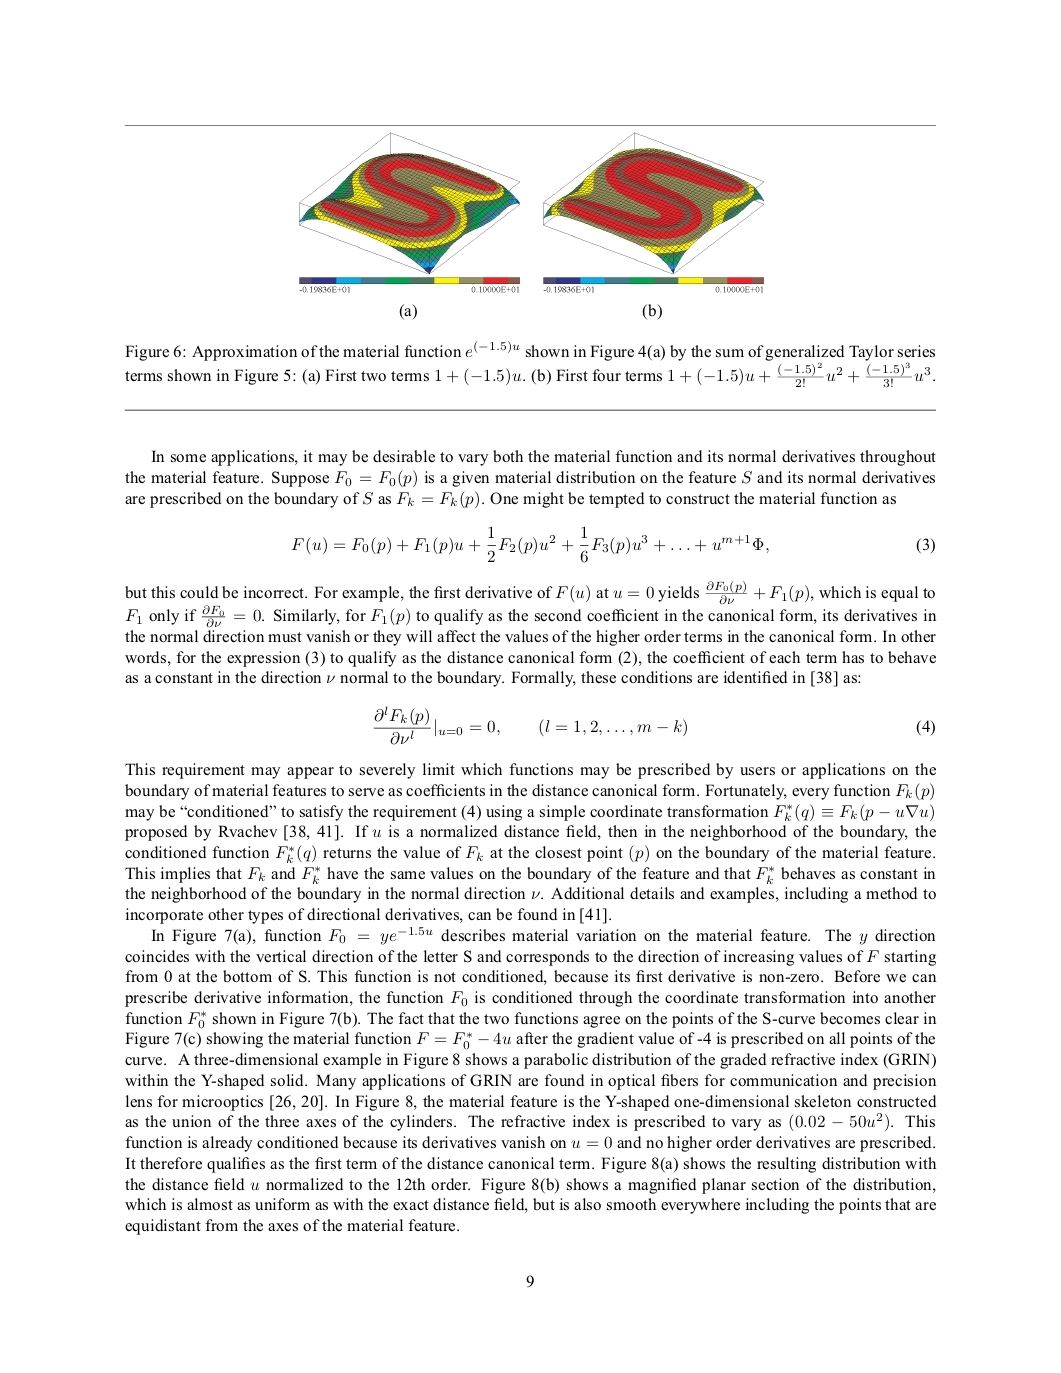figure: (299, 132, 519, 292), (543, 132, 763, 292), (124, 408, 935, 411)
formula: (291, 525, 934, 563), (373, 705, 934, 744)
